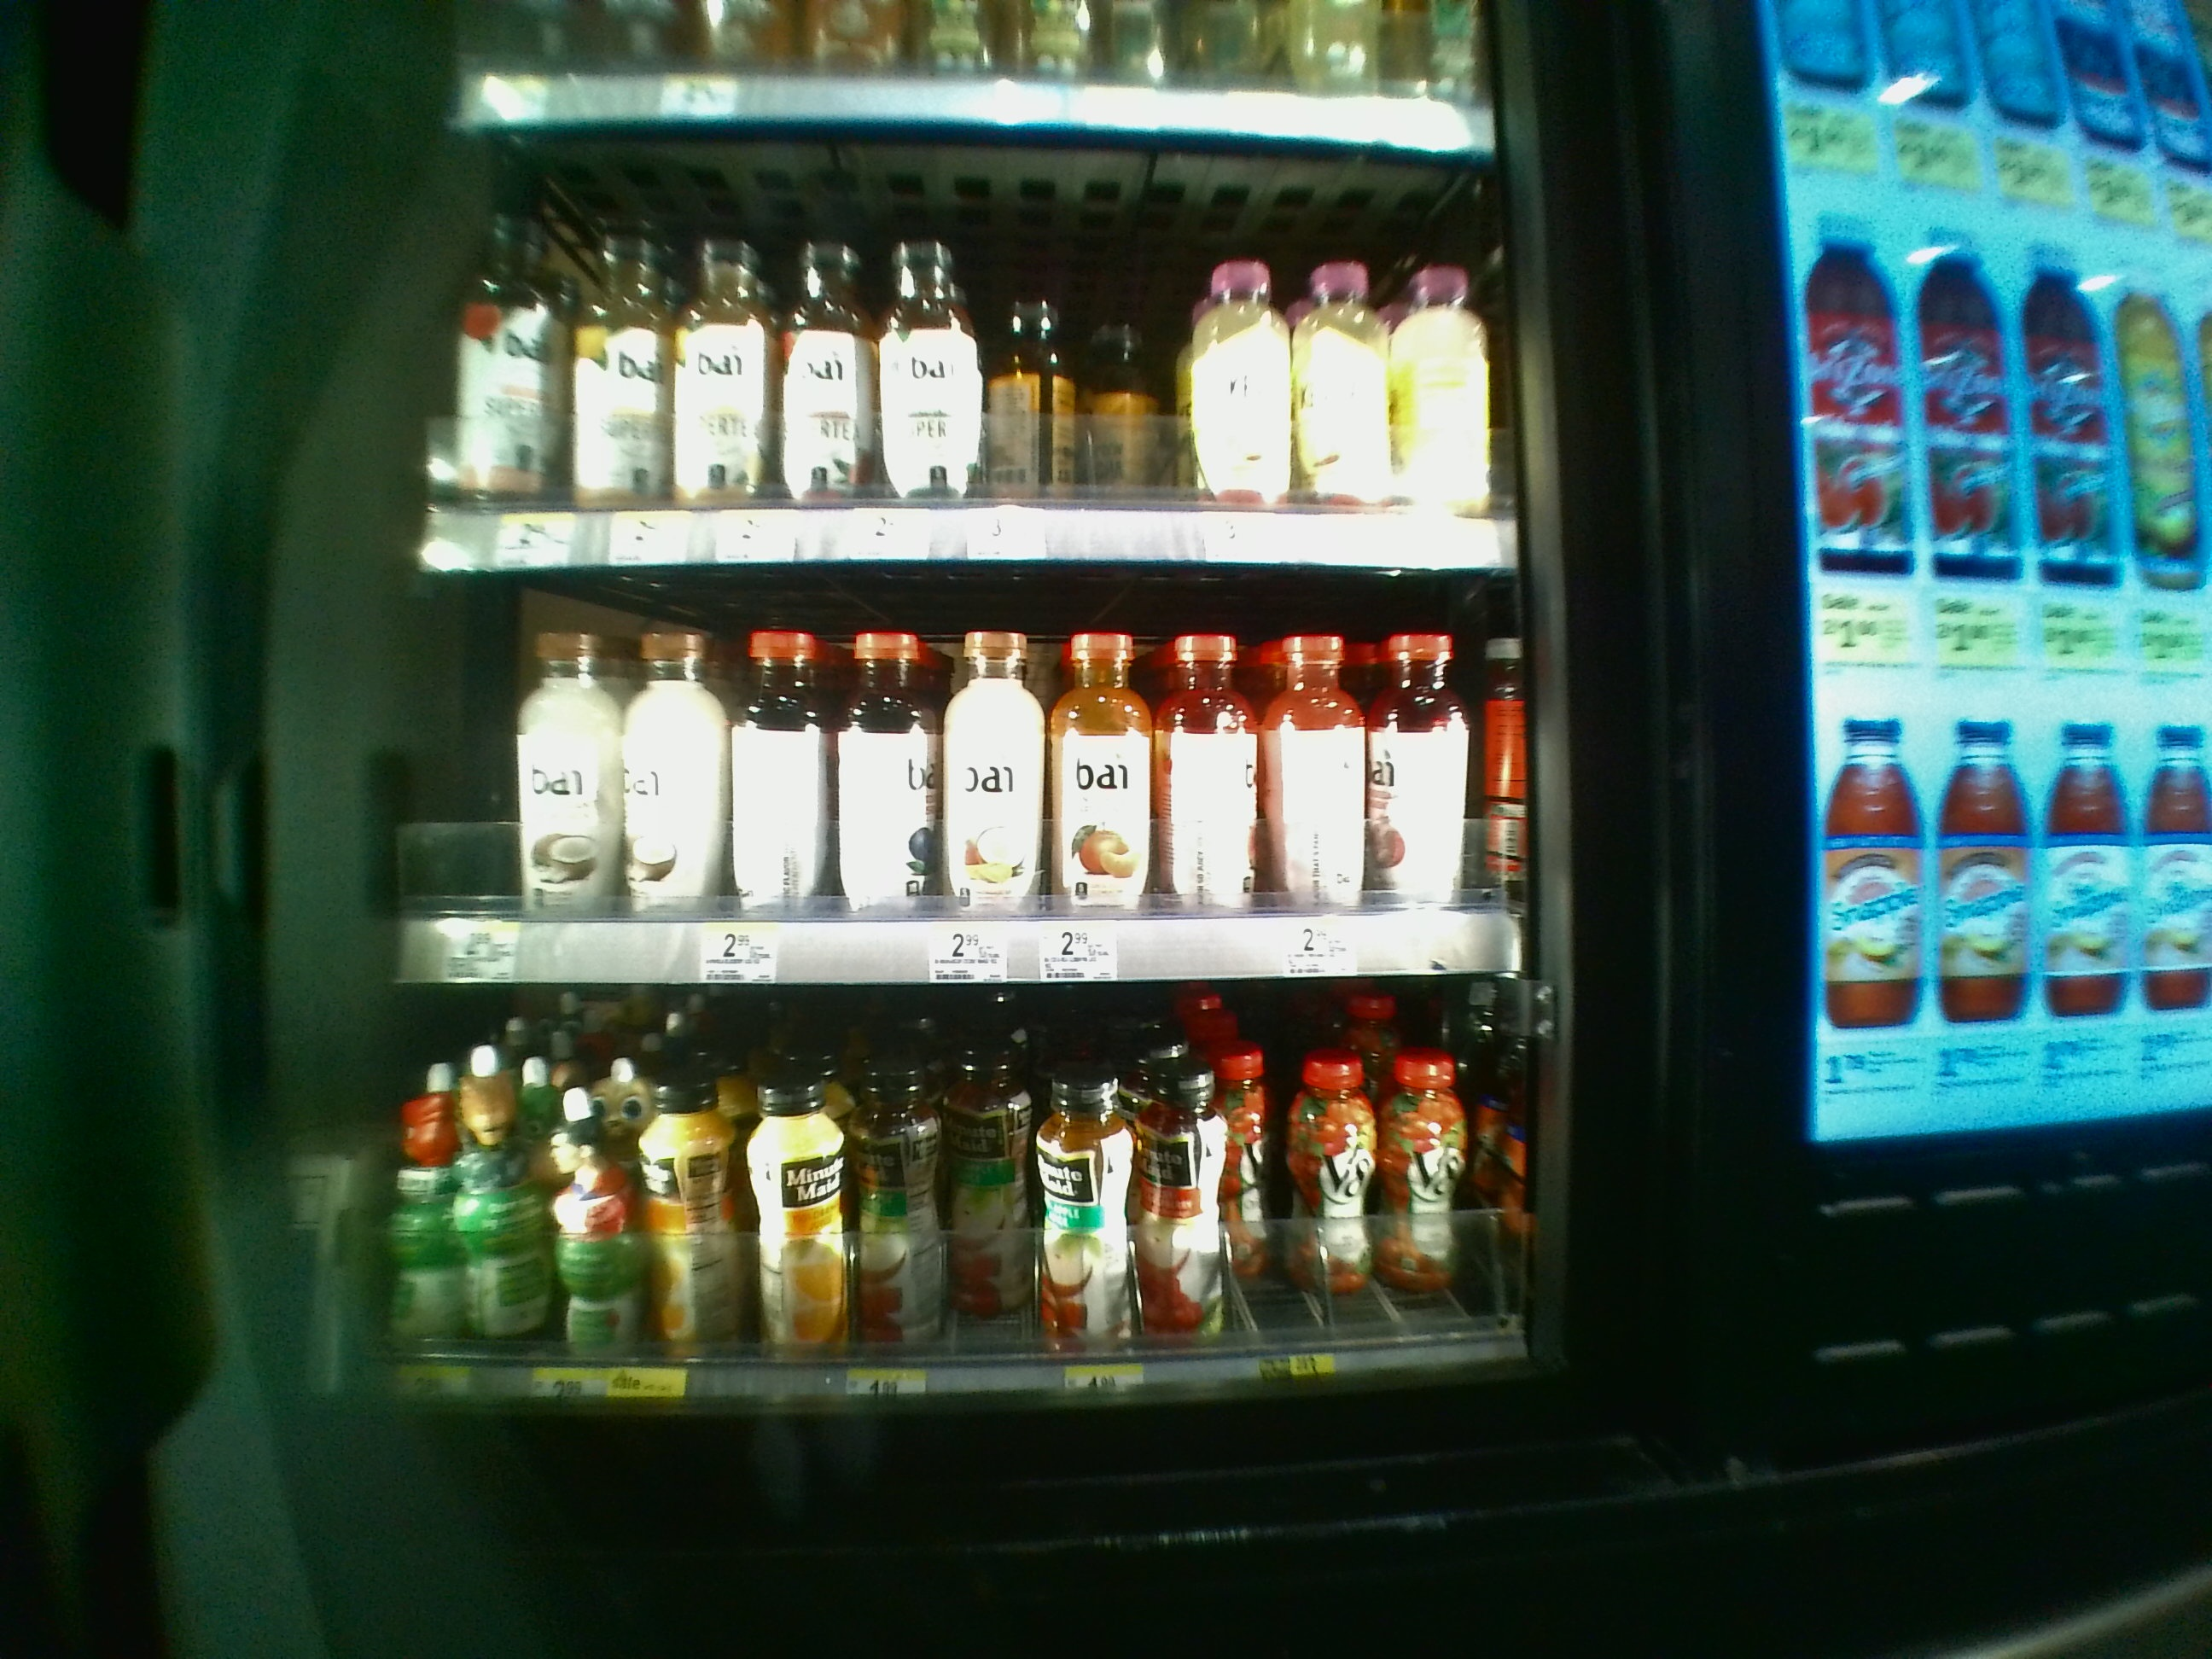shelf: (416, 129, 1524, 572), (388, 990, 1541, 1405), (406, 579, 1531, 983)
